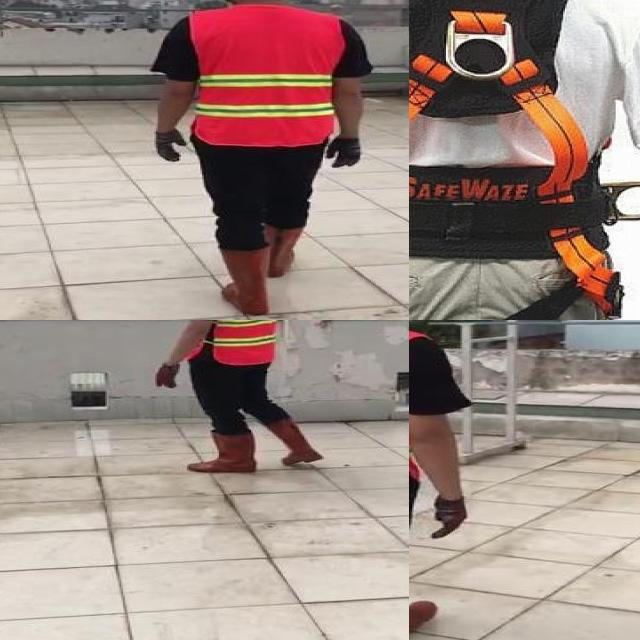Harness: (409, 0, 620, 312)
boots: (216, 244, 270, 314), (262, 420, 324, 466), (188, 433, 254, 475), (261, 222, 305, 279), (409, 583, 437, 640)
hand_glove: (430, 497, 469, 537), (152, 129, 186, 163), (327, 138, 362, 169), (153, 363, 182, 391)
person: (140, 0, 380, 315), (146, 320, 331, 475), (409, 320, 485, 640)
vest: (186, 5, 343, 144), (206, 320, 277, 366)
